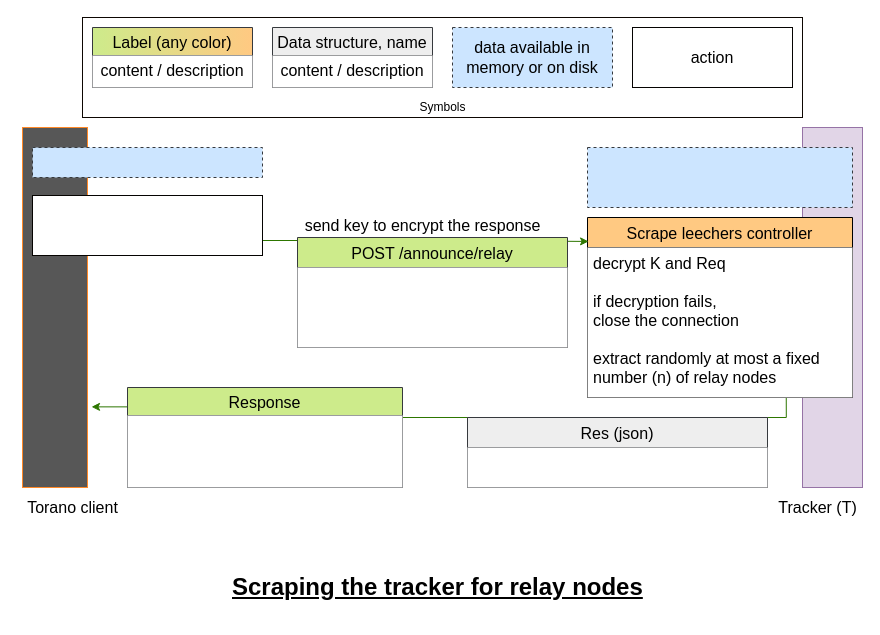
This 880x635 diagram has some shape labels left out. The centre of each missing label's shape, as x and y in pixels:
[ relay node1, relay node2, ... ]: pixel 617 467
generate aes key (K) for the following data exchange: pixel 147 225
Relay Nodes (array or hash map): pixel 719 177
tracker's public key (T): pixel 147 162
{ encryptedData: AsymEncr_K(Res) }: pixel 264 451
{ encryptedKey: SymEncr_ T (K) }: pixel 432 307
